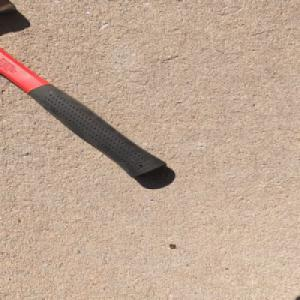Hammer: (0, 0, 171, 181)
